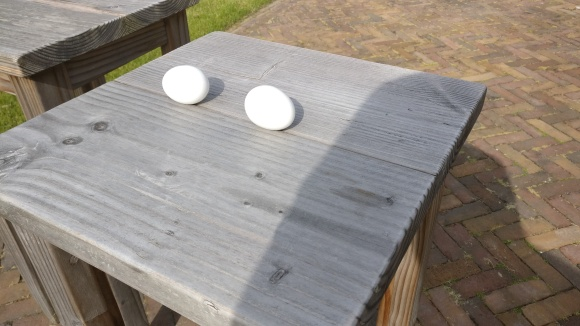egg: (244, 84, 295, 130), (161, 65, 210, 104)
